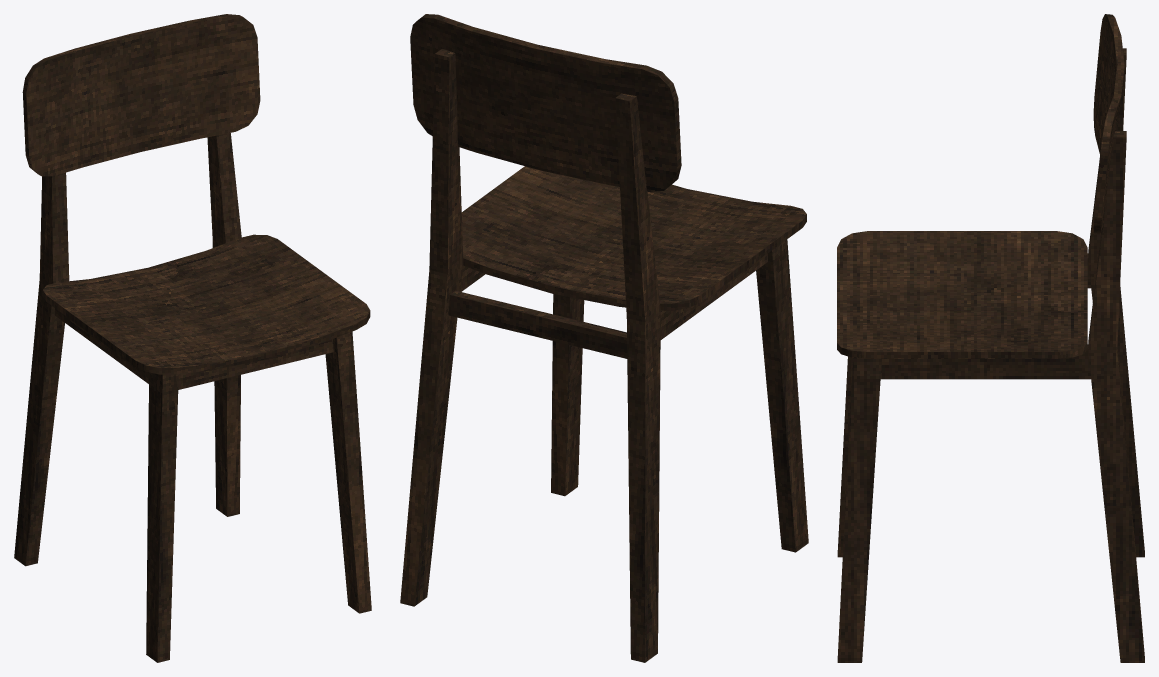
File: chair_mp_3_1.glb
3 views of the same model, side by side, from view 1: azimuth 30°, elevation 25°; view 2: azimuth 150°, elevation 25°; view 3: azimuth 270°, elevation 25° (orthographic). The views are drawn at different scales.
Parts seen in each view (by area): view 1: chair_mp_3_1; view 2: chair_mp_3_1; view 3: chair_mp_3_1.
Part boxes in pixels (x1,y1,x2,y2): chair_mp_3_1: (14,14,371,662); chair_mp_3_1: (400,14,808,662); chair_mp_3_1: (837,14,1144,662).
Bounding box in the file's own units: 0.4763 × 0.9967 × 0.5126.
Materials: 1 (1 with a texture image).
